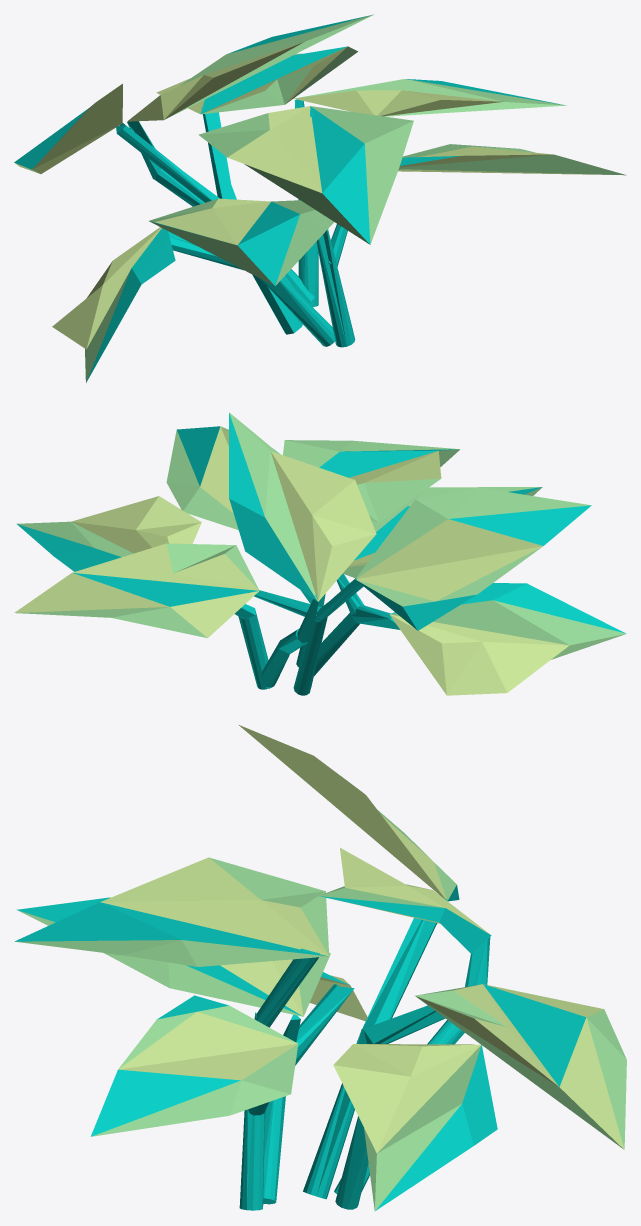
Rendered from leafpatch.glb.
3 renders of one model, top to bottom at view 1: azimuth 30°, elevation 25°; view 2: azimuth 150°, elevation 25°; view 3: azimuth 270°, elevation 25°, orthographic. The views are drawn at different scales.
Visible parts, largest first — view 1: group2117269532, group841761926, group2054936244, group731794966, group2015142442, group955371169, group1411839974, group767650582, group1595479223, group1546240279, group378564397, group1649813413 (+4 smaller); view 2: group767650582, group2015142442, group2054936244, group955371169, group731794966, group2117269532, group1411839974, group841761926, group1724519455, group778075132, group1546240279, group607484441 (+4 smaller); view 3: group2117269532, group1411839974, group731794966, group955371169, group841761926, group767650582, group2015142442, group378564397, group1724519455, group1595479223, group1546240279, group778075132 (+5 smaller).
Boxes of the visible parts, x1,y1,x2,y2 form: group2117269532: (198,106,413,244); group841761926: (149,198,333,285); group2054936244: (52,227,175,382); group731794966: (294,79,566,116); group2015142442: (127,14,373,121); group955371169: (156,46,357,114); group1411839974: (398,144,626,175); group767650582: (14,83,122,173); group1595479223: (316,229,355,347); group1546240279: (261,277,335,346); group378564397: (116,122,219,202); group1649813413: (201,108,236,199); group767650582: (355,487,591,630); group2015142442: (229,412,376,601); group2054936244: (389,583,626,695); group955371169: (14,543,259,638); group731794966: (17,496,201,571); group2117269532: (283,440,459,522); group1411839974: (166,426,279,529); group841761926: (343,487,542,578); group1724519455: (293,617,327,695); group778075132: (238,608,271,689); group1546240279: (314,613,359,675); group607484441: (351,605,399,629); group2117269532: (14,857,329,966); group1411839974: (90,995,298,1136); group731794966: (333,1044,497,1211); group955371169: (415,984,626,1149); group841761926: (16,897,330,1016); group767650582: (239,725,459,901); group2015142442: (319,848,491,953); group378564397: (362,895,447,1028); group1724519455: (303,1029,366,1199); group1595479223: (239,1012,264,1210); group1546240279: (263,1096,285,1204); group778075132: (335,1116,368,1209).
Size of the model in its own units: 0.6841 by 0.3284 by 0.5186.
